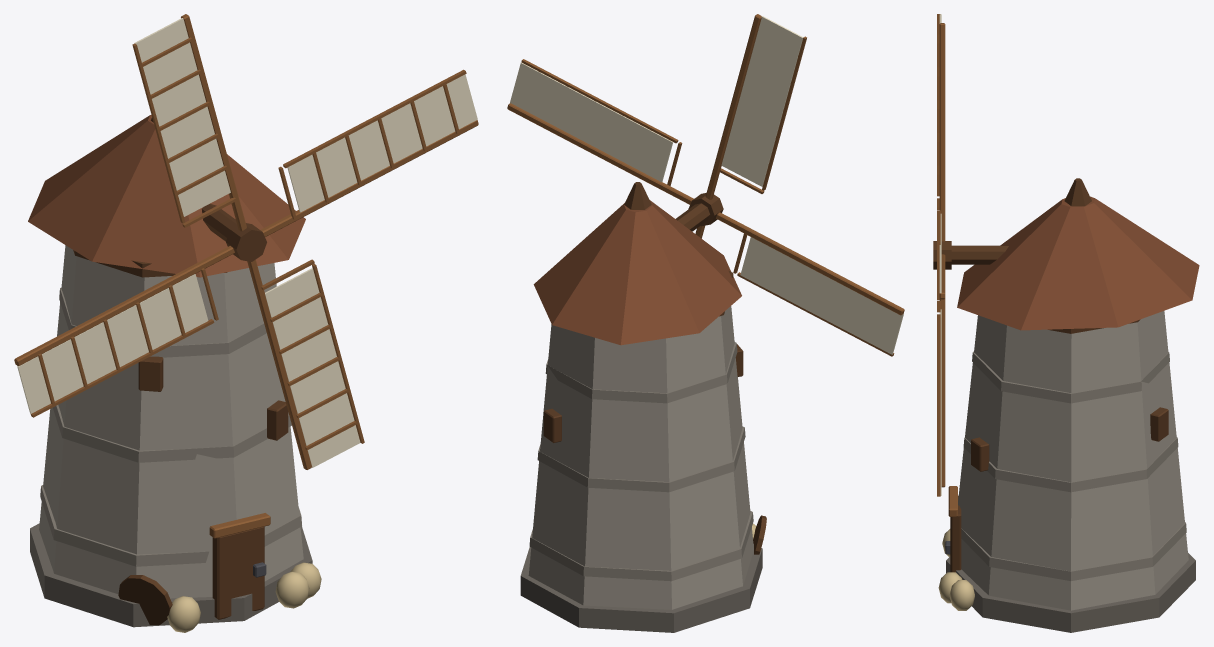
File: windmill.glb
The picture shows the model from 3 angles, left to right: view 1: azimuth 30°, elevation 25°; view 2: azimuth 150°, elevation 25°; view 3: azimuth 270°, elevation 25°; orthographic projection. The views are drawn at different scales.
Parts seen in each view (by area): view 1: Cone, Cone.006, Cube.025, Cube.034, Cube.007, Cube.016, Cone.004, Cube, Cone.001, Cone.002, Cube.024, Cube.033 (+15 smaller); view 2: Cone, Cone.006, Cube.007, Cube.016, Cube.025, Cone.004, Cone.001, Cone.002, Cone.003, Cube.024, Cube.006, Cube.015 (+4 smaller); view 3: Cone, Cone.006, Cone.004, Cone.001, Cone.003, Cone.002, Cube.015, Cone.008, Cube.033, Cube.041, Cube, Icosphere.001 (+5 smaller).
Boxes of the visible parts, x1,y1,x2,y2 form: Cone: (39,245,303,598); Cone.006: (28,115,305,277); Cube.025: (17,274,208,413); Cube.034: (265,268,360,467); Cube.007: (287,74,477,212); Cube.016: (135,18,230,216); Cone.004: (30,523,312,627); Cube: (212,526,264,619); Cone.001: (40,485,301,566); Cone.002: (53,405,291,462); Cube.024: (14,246,234,366); Cube.033: (247,260,311,469); Cone: (528,306,753,609); Cone.006: (533,200,741,345); Cube.007: (510,62,673,182); Cube.016: (721,16,803,186); Cube.025: (740,237,903,354); Cone.004: (520,543,762,632); Cone.001: (529,511,753,581); Cone.002: (537,426,745,492); Cone.003: (545,342,737,403); Cube.024: (716,212,904,315); Cube.006: (507,103,693,204); Cube.015: (705,14,761,199); Cone: (958,311,1188,610); Cone.006: (957,196,1199,330); Cone.004: (946,553,1195,632); Cone.001: (961,522,1186,580); Cone.003: (972,351,1169,403); Cone.002: (963,437,1178,492); Cube.015: (939,23,945,241); Cone.008: (951,245,1008,264); Cube.033: (939,298,945,487); Cube.041: (937,314,940,496); Cube: (950,495,961,572); Icosphere.001: (949,580,974,610).
Bounding box in the file's own units: 12.59 × 16.24 × 7.35.
